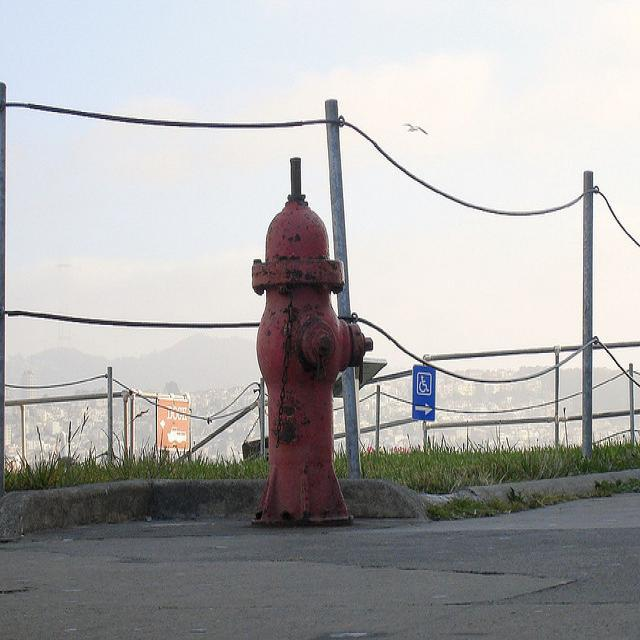fire_hydrant: (249, 157, 375, 524)
